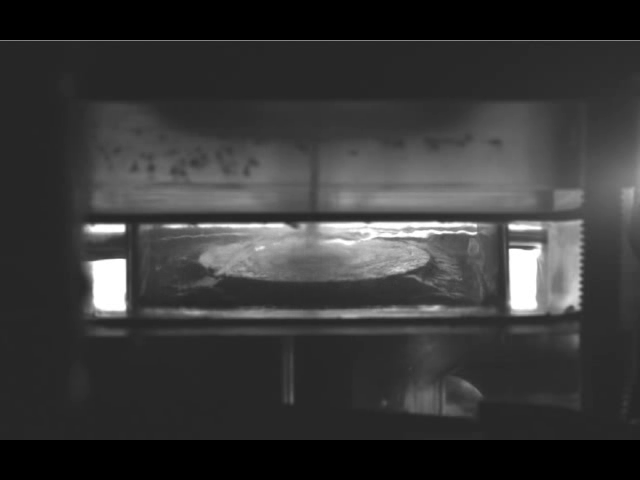Zona de teste: (200, 234, 435, 282)
